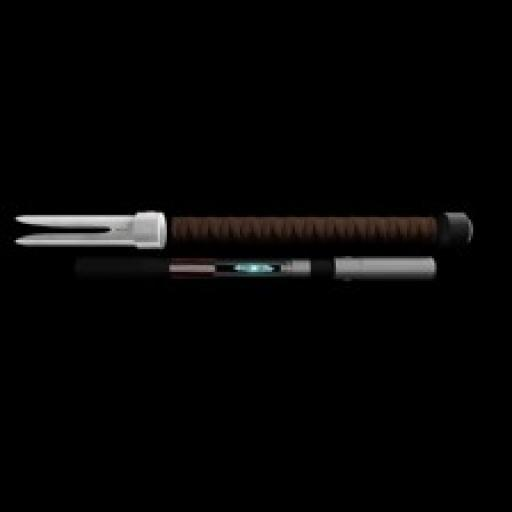lightsaber: (6, 199, 481, 255)
